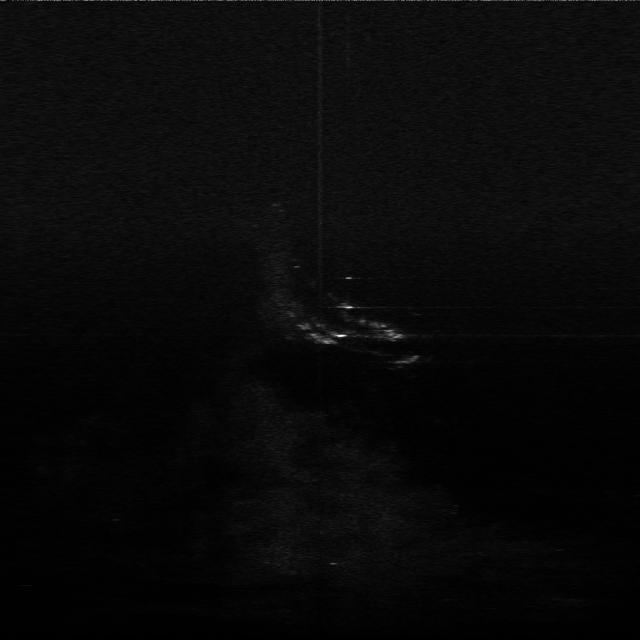rov: (377, 324, 408, 342)
